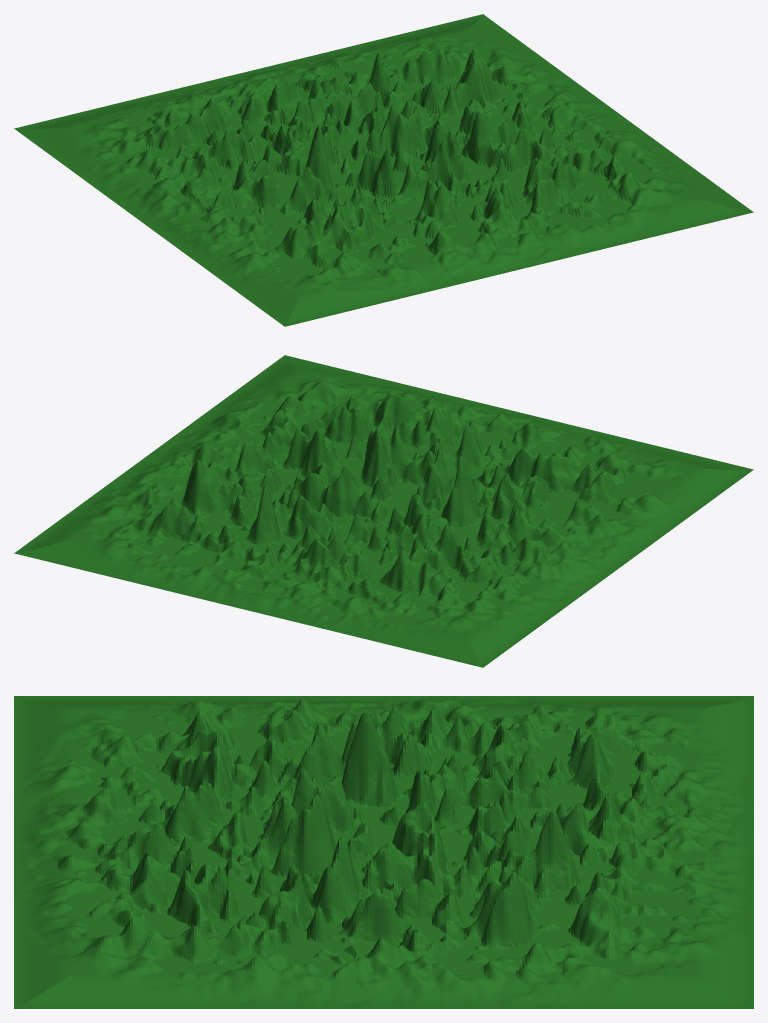
Rendered from Landscape.fbx.
3 renders of one model, top to bottom at view 1: azimuth 30°, elevation 25°; view 2: azimuth 150°, elevation 25°; view 3: azimuth 270°, elevation 25°, orthographic. The views are drawn at different scales.
Visible parts, largest first — view 1: Landscape.016; view 2: Landscape.016; view 3: Landscape.016.
Boxes of the visible parts, x1=… form: Landscape.016: x1=14, y1=14, x2=753, y2=326; Landscape.016: x1=14, y1=355, x2=753, y2=667; Landscape.016: x1=14, y1=696, x2=753, y2=1008.
Size of the model in its own units: 10000 by 1375 by 10000.
